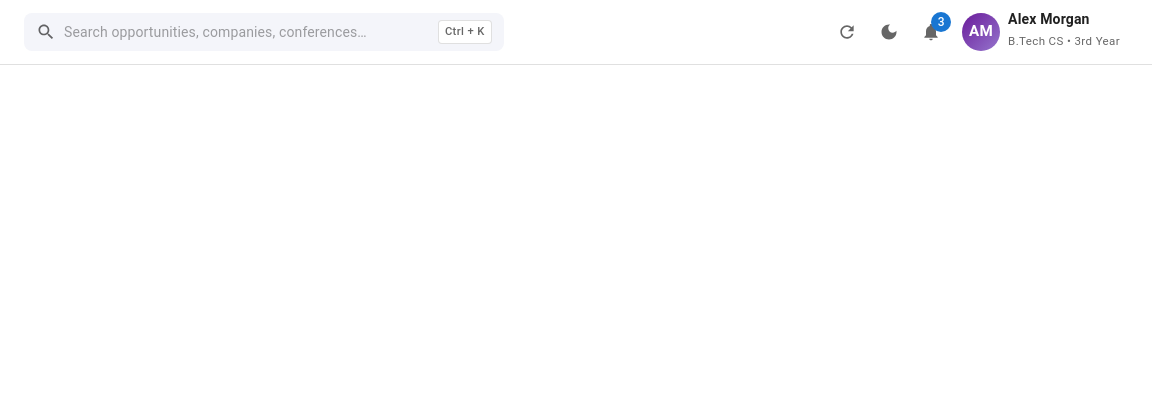
Test: Header Component › opens profile dropdown menu upon clicking the profile button
The width and height of the screenshot is (1152, 398).
Click the button with aria-label "user profile and account menu".
click(1043, 32)  # box [958,7,1128,57]
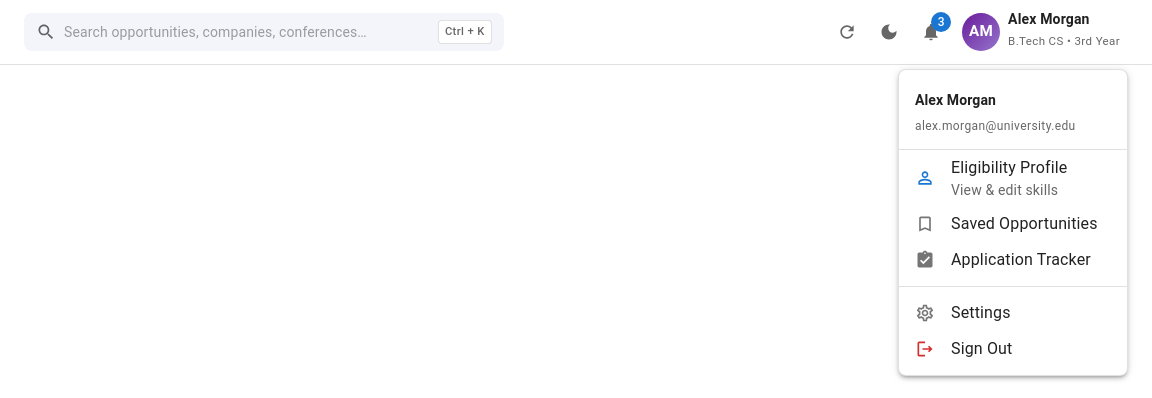
expect the text "alex.morgan@university.edu" is shown: met, box [915,119,1076,133]
expect the text "Eligibility Profile" is shown: met, box [951,158,1067,177]
expect the text "Saved Opportunities" is shown: met, box [951,212,1111,236]
